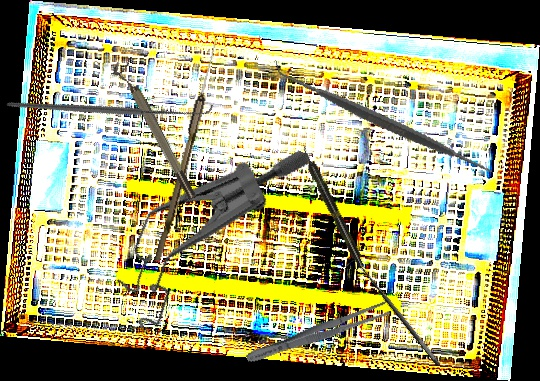Dressing Forceps: (243, 298, 392, 368)
Fixation Ring: (109, 56, 200, 205)
Handpiece: (298, 144, 367, 270)
Hook Surgical: (6, 10, 214, 201), (344, 255, 443, 373)
Spatula Surgical: (275, 13, 496, 231)
Speculum: (100, 103, 315, 365)
Surgical Spoon: (154, 38, 221, 263)
